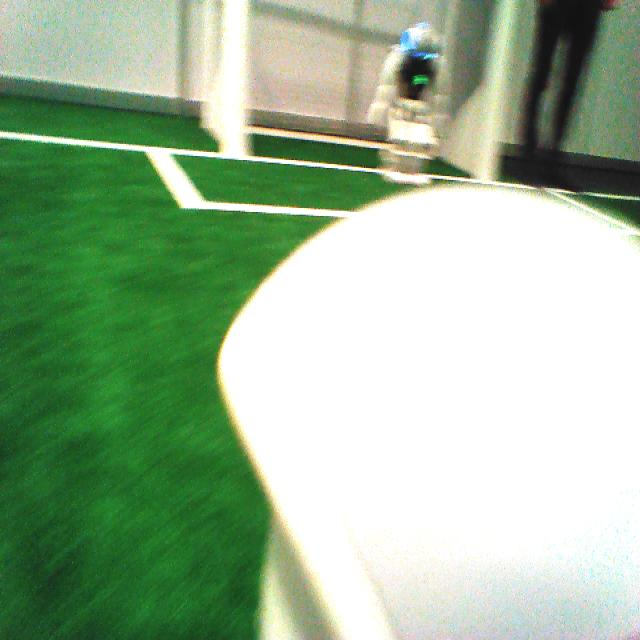goalpost: (475, 1, 518, 183), (218, 2, 247, 158)
